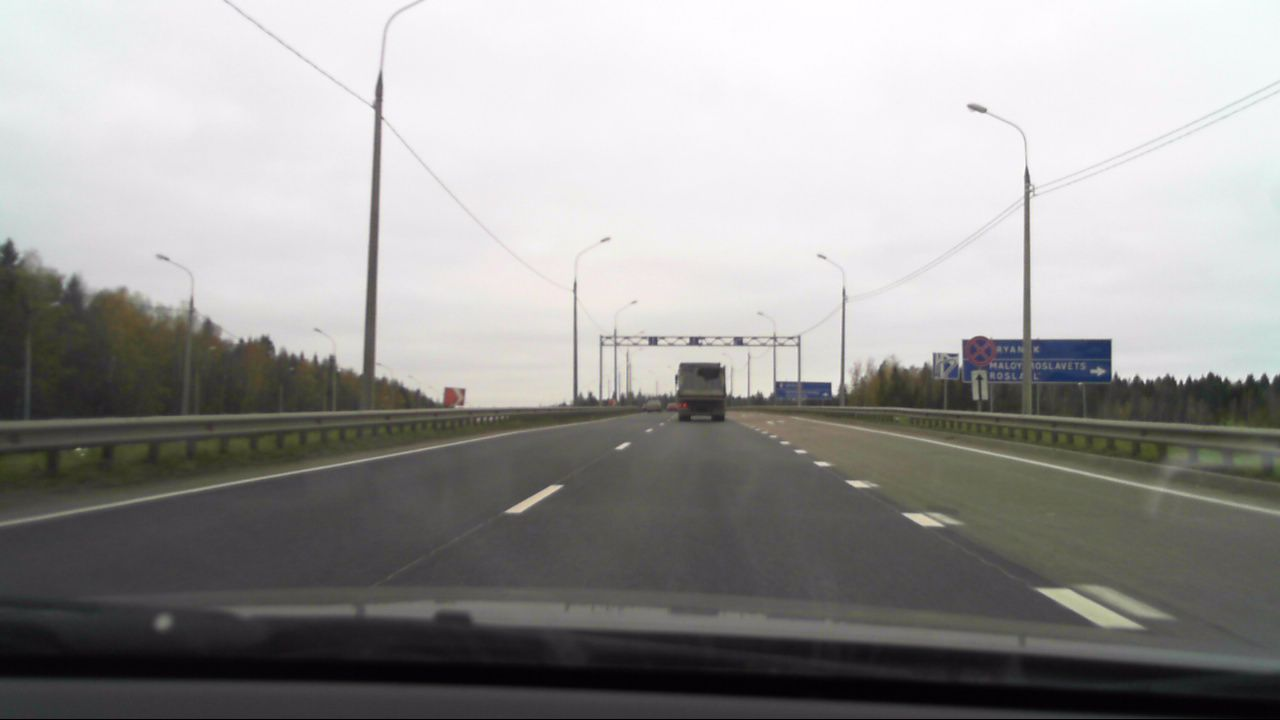No Parking: (966, 334, 993, 363)
